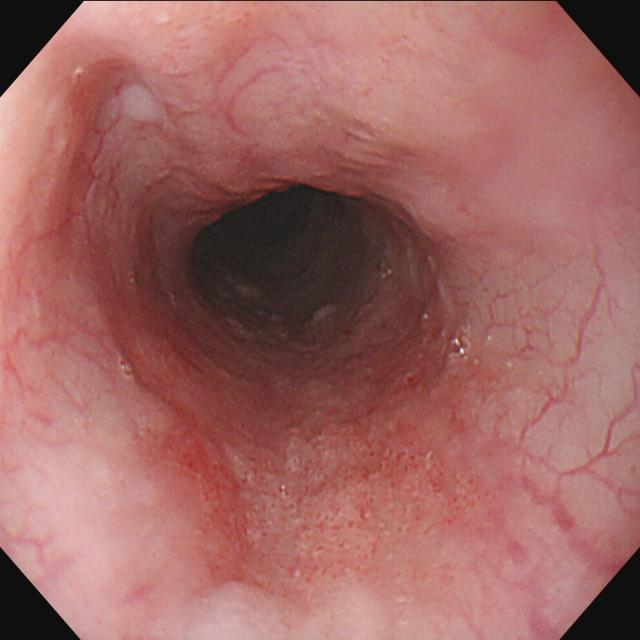A: (247, 363, 485, 586), (153, 418, 245, 531)
E: (189, 184, 384, 316)
T: (443, 328, 476, 366)
